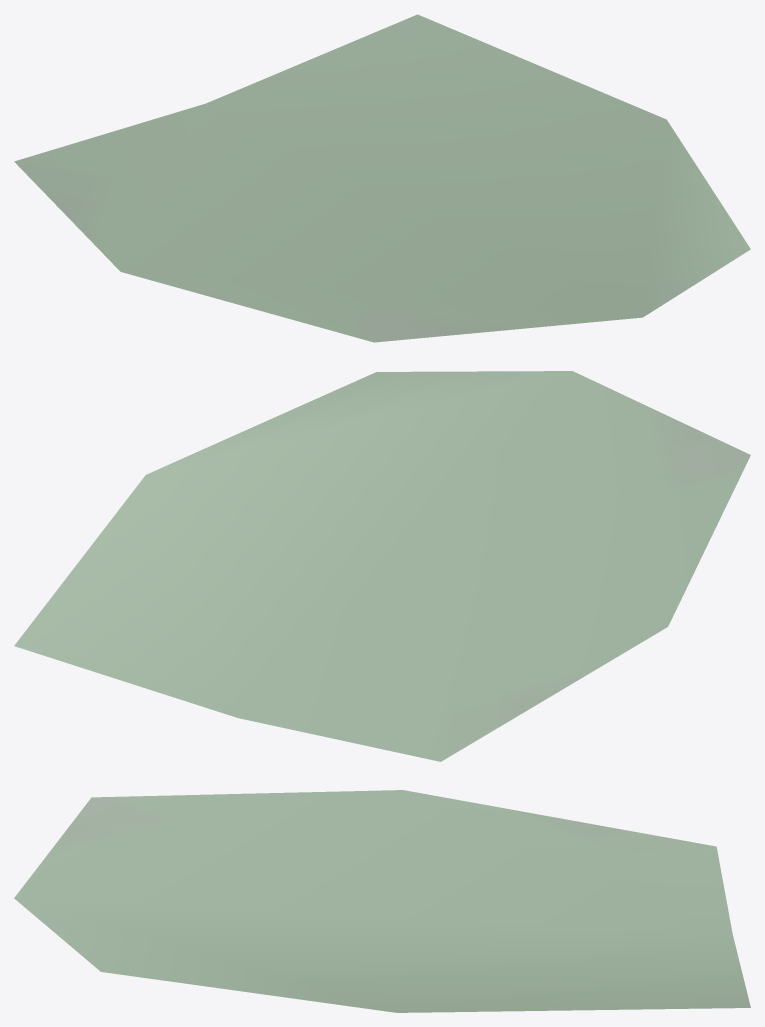
Rendered from TROLLHOLE02_HOLECAP134.fbx.
3 views of the same model, one above another, from view 1: azimuth 30°, elevation 25°; view 2: azimuth 150°, elevation 25°; view 3: azimuth 270°, elevation 25° (orthographic). The views are drawn at different scales.
Parts seen in each view (by area): view 1: TROLLHOLE02_HOLECAP134; view 2: TROLLHOLE02_HOLECAP134; view 3: TROLLHOLE02_HOLECAP134.
Part boxes in pixels (left/top/right/bottom): TROLLHOLE02_HOLECAP134: left=14, top=14, right=750, bottom=342; TROLLHOLE02_HOLECAP134: left=14, top=371, right=750, bottom=761; TROLLHOLE02_HOLECAP134: left=14, top=790, right=750, bottom=1012.
Size of the model in its own units: 18381 by 2065 by 23527.
Materials: 1 (1 with a texture image).
